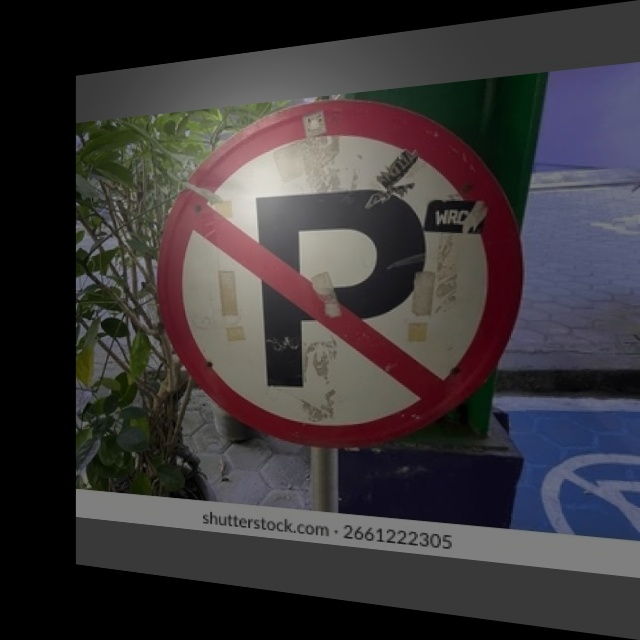No_Parking: (160, 81, 515, 446)
